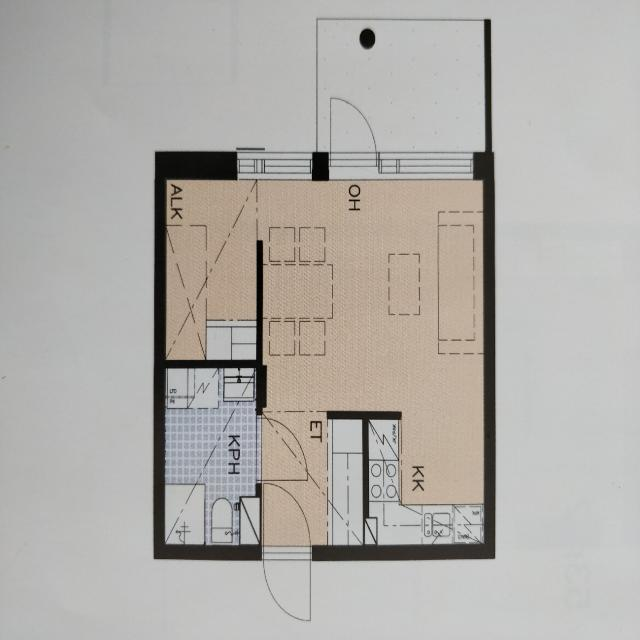door: (331, 92, 376, 180), (263, 483, 310, 561), (263, 545, 310, 623), (256, 418, 308, 480)
